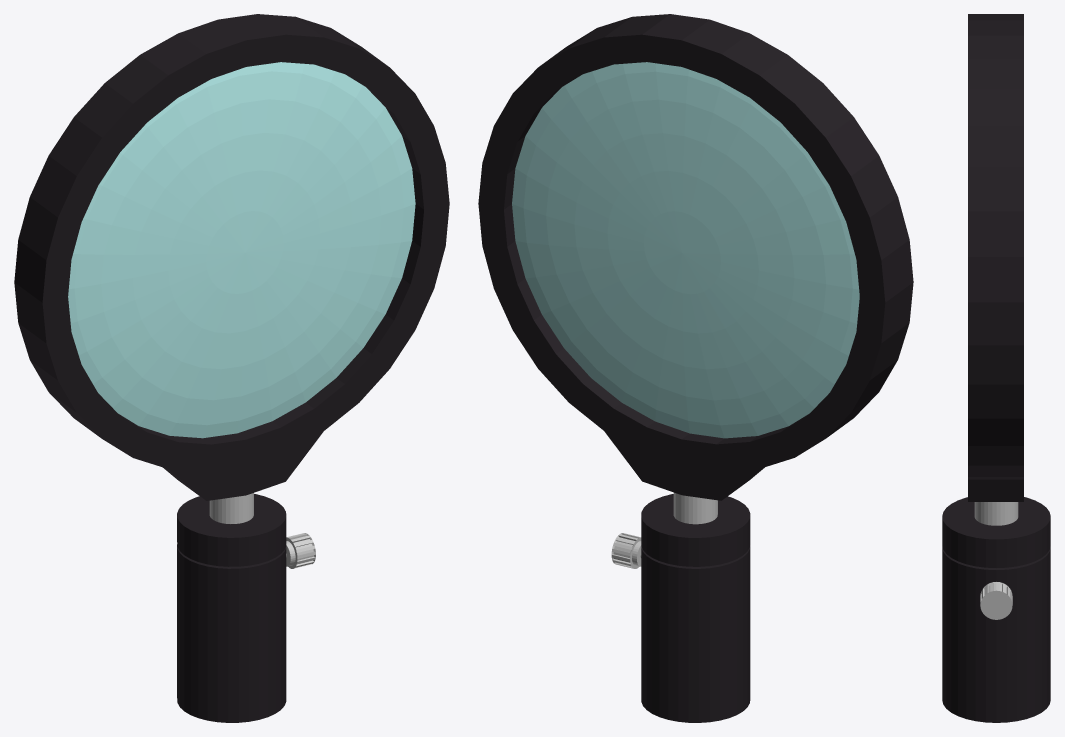
File: lens.glb
3 views of the same model, side by side, from view 1: azimuth 30°, elevation 25°; view 2: azimuth 150°, elevation 25°; view 3: azimuth 270°, elevation 25° (orthographic).
Visible parts, largest first — view 1: 球, 円, 円柱, 円柱.001, 円柱.003; view 2: 球, 円, 円柱, 円柱.001, 円柱.003; view 3: 円, 円柱, 円柱.003, 円柱.001.
Boxes of the visible parts, x1,y1,x2,y2 form: 球: (68, 62, 415, 438); 円: (14, 14, 449, 500); 円柱: (177, 494, 286, 722); 円柱.001: (209, 493, 253, 523); 円柱.003: (286, 533, 315, 568); 球: (512, 62, 859, 438); 円: (478, 14, 913, 500); 円柱: (641, 494, 750, 722); 円柱.001: (673, 492, 717, 524); 円柱.003: (611, 533, 641, 568); 円: (968, 14, 1023, 501); 円柱: (942, 497, 1050, 722); 円柱.003: (980, 582, 1012, 619); 円柱.001: (974, 502, 1018, 525).
Bounding box in the file's own units: 5.99 × 9.43 × 1.4.
